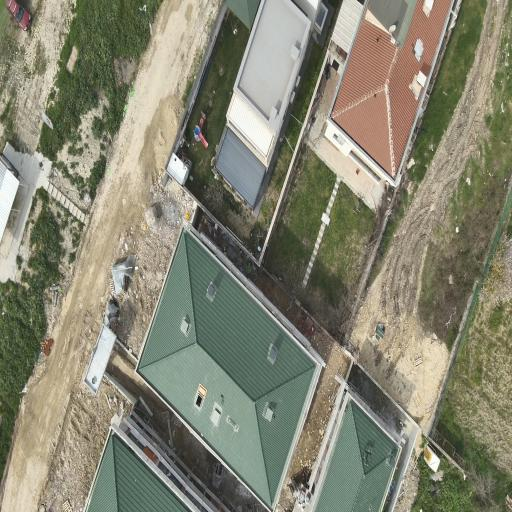car: (7, 0, 31, 30)
